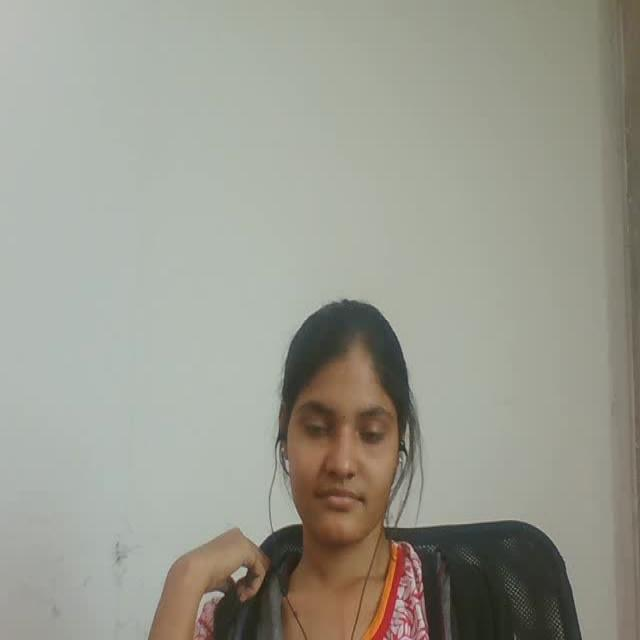Engaged: (249, 282, 442, 581)
